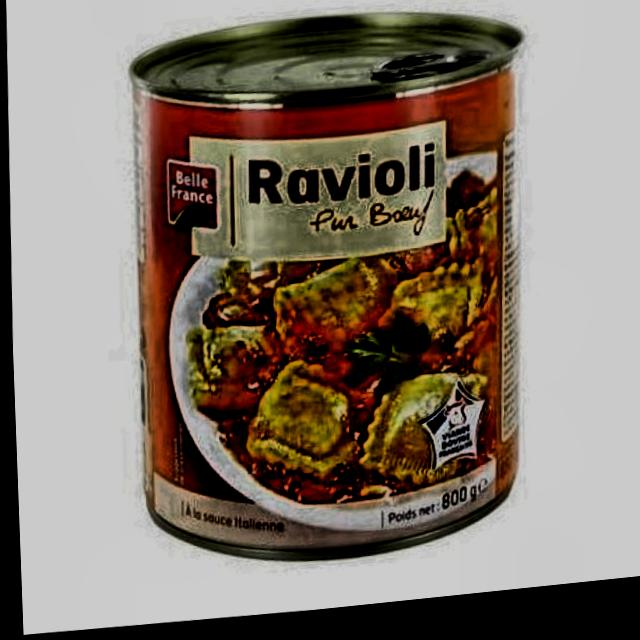Cans: (94, 0, 547, 594)
